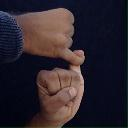hand: (0, 7, 85, 65), (35, 51, 86, 128)
